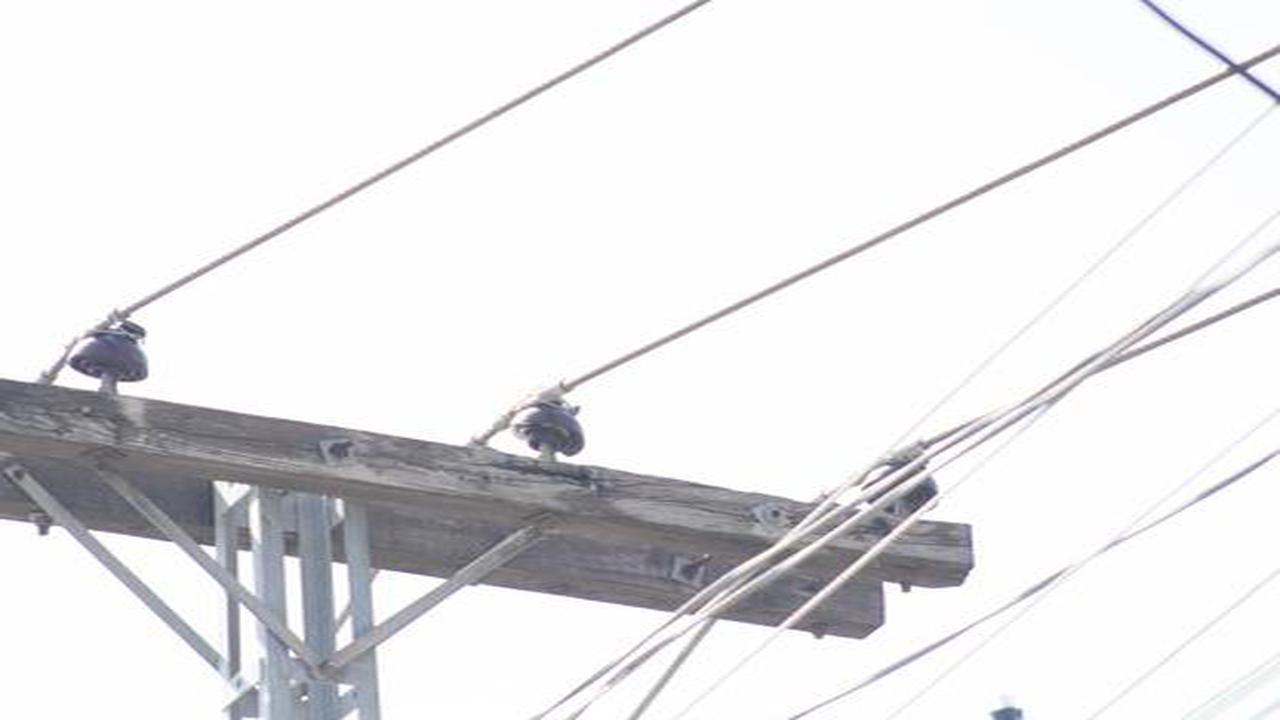insulator_pin: (507, 385, 595, 466), (69, 311, 152, 384)
